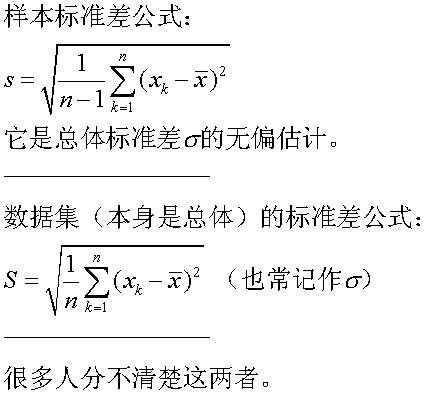division: (57, 77, 106, 86), (63, 277, 79, 286)
sqrt: (46, 40, 237, 115), (43, 240, 209, 320)
square: (189, 266, 201, 280), (219, 64, 229, 77)
